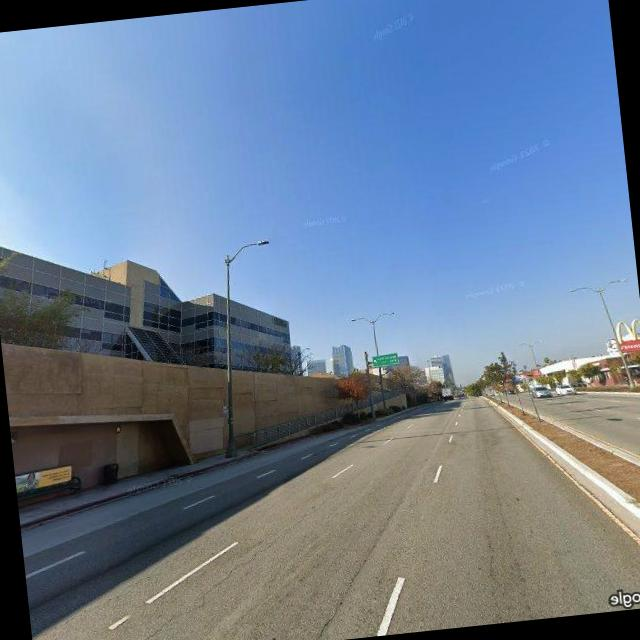crack: (98, 512, 332, 640)
